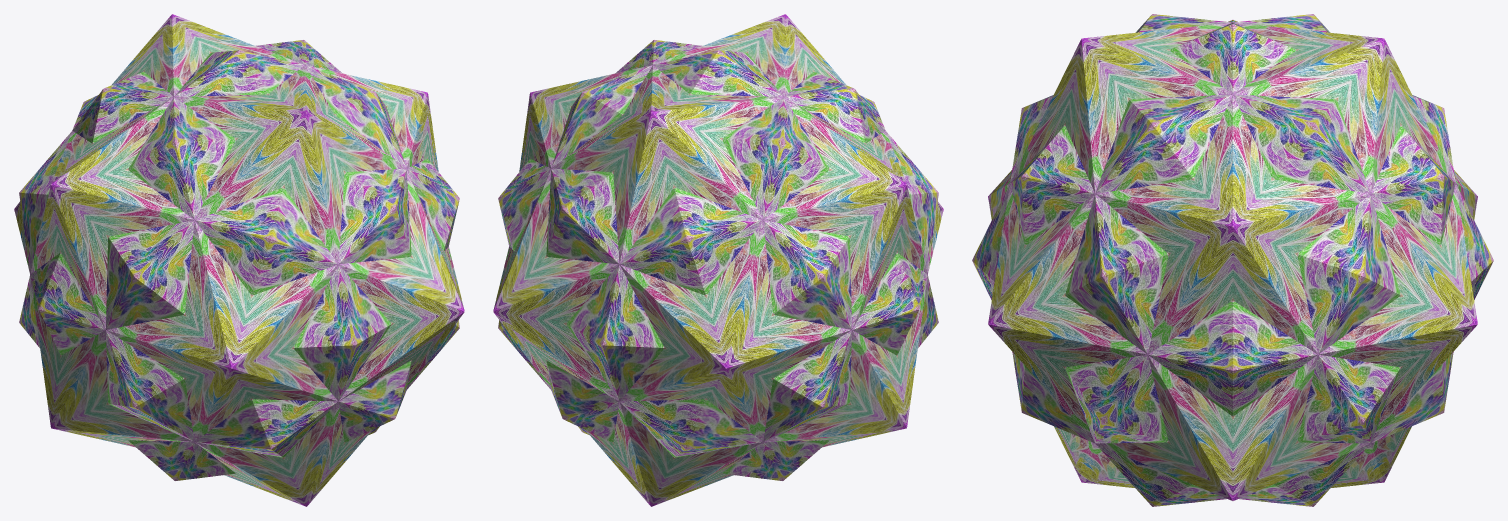
Rendered from MedialDeltoidalHexecontahedron7.obj.
3 renders of one model, left to right at view 1: azimuth 30°, elevation 25°; view 2: azimuth 150°, elevation 25°; view 3: azimuth 270°, elevation 25°, orthographic. The views are drawn at different scales.
Bounding box in the file's own units: 2.68 × 2.68 × 2.68.
1 material, 1 textured.
